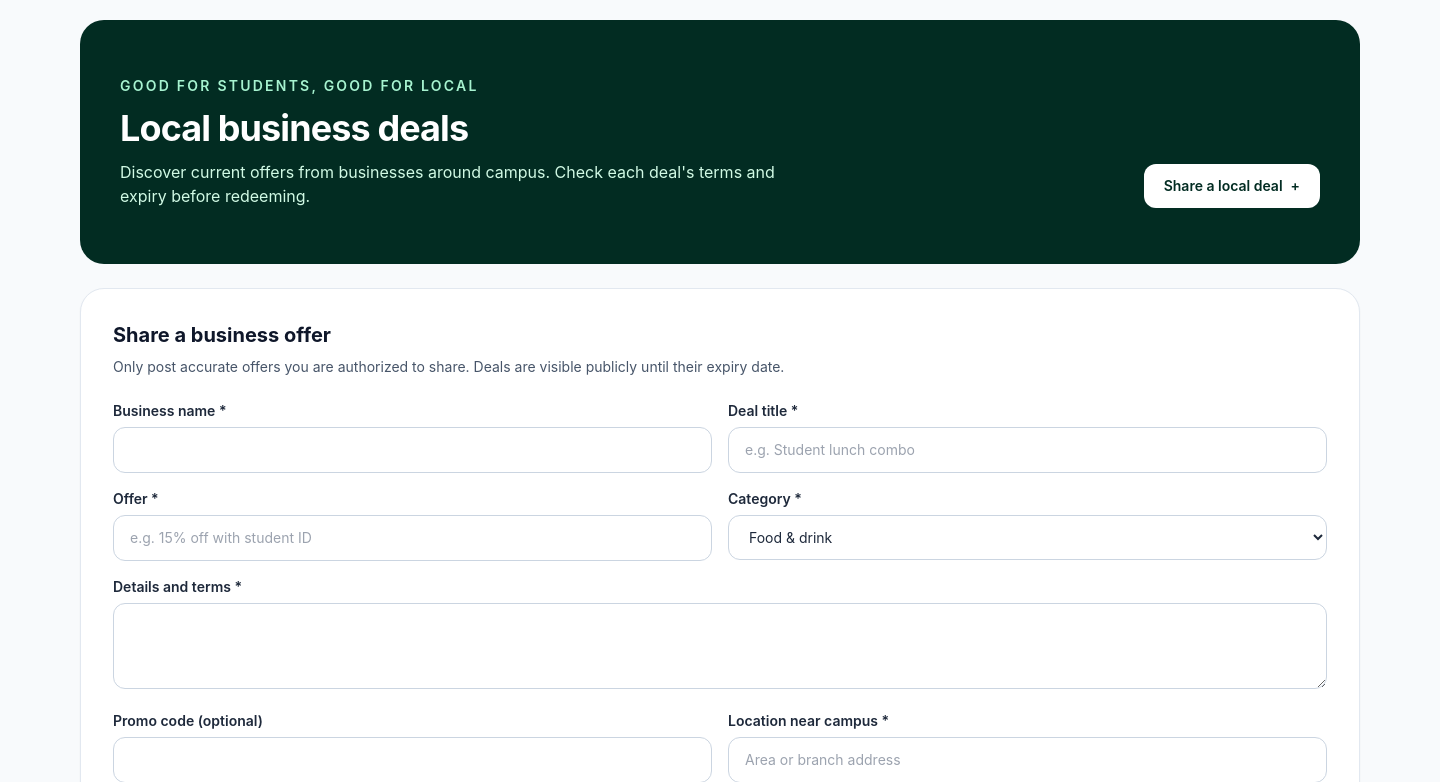
it: Local business deals › allows a signed-in student to publish a local business deal
Earlier steps of the test are not shown.
Type "Campus Corner Cafe" into the field labelled "Business name *" at [412, 450], box x1=113 y1=427 x2=712 y2=473
Type "Student lunch combo" into the field labelled "Deal title *" at [1028, 450], box x1=728 y1=427 x2=1327 y2=473
Type "15% off with student ID" into the field labelled "Offer *" at [412, 538], box x1=113 y1=515 x2=712 y2=561
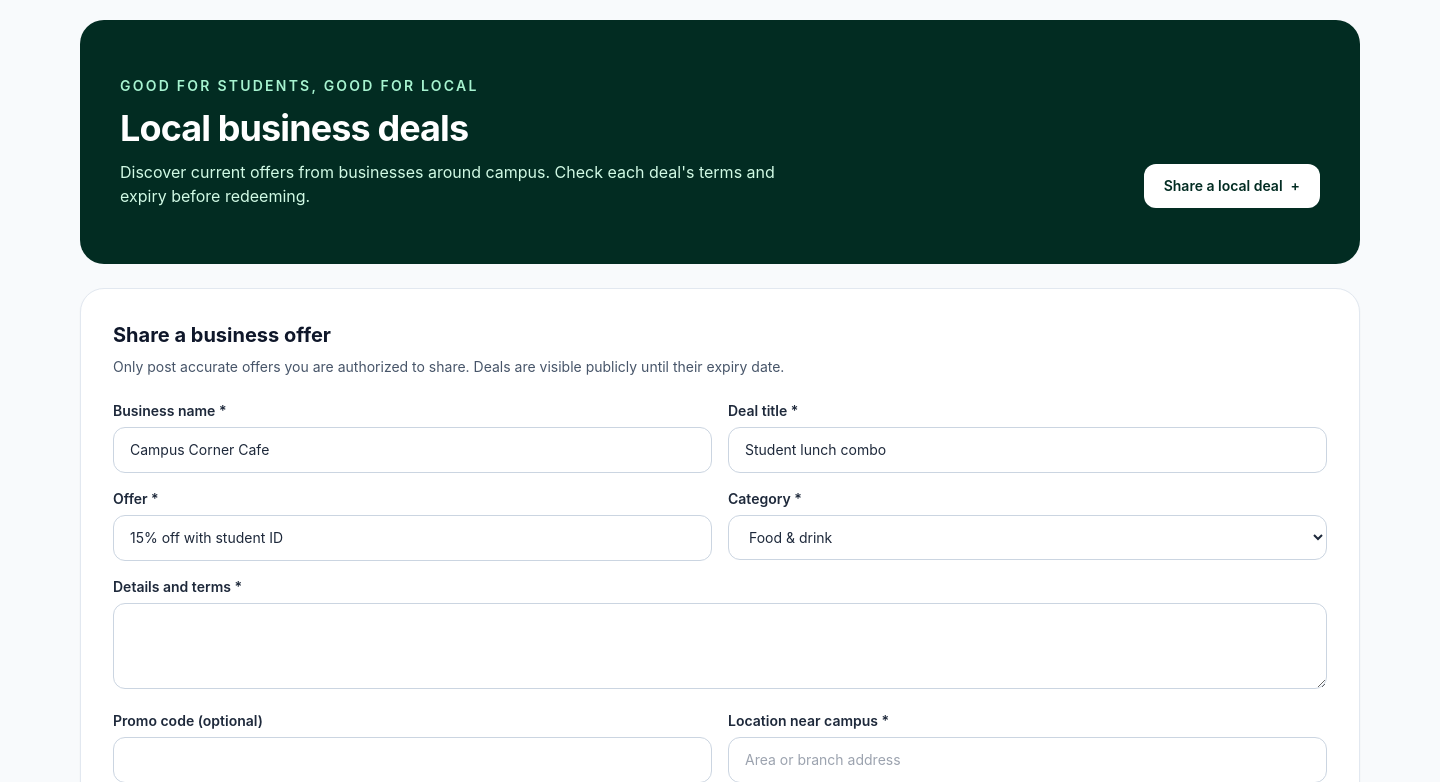
Type "Valid on weekdays." into the text box labelled "Details and terms *" at [720, 646], box x1=113 y1=603 x2=1327 y2=689
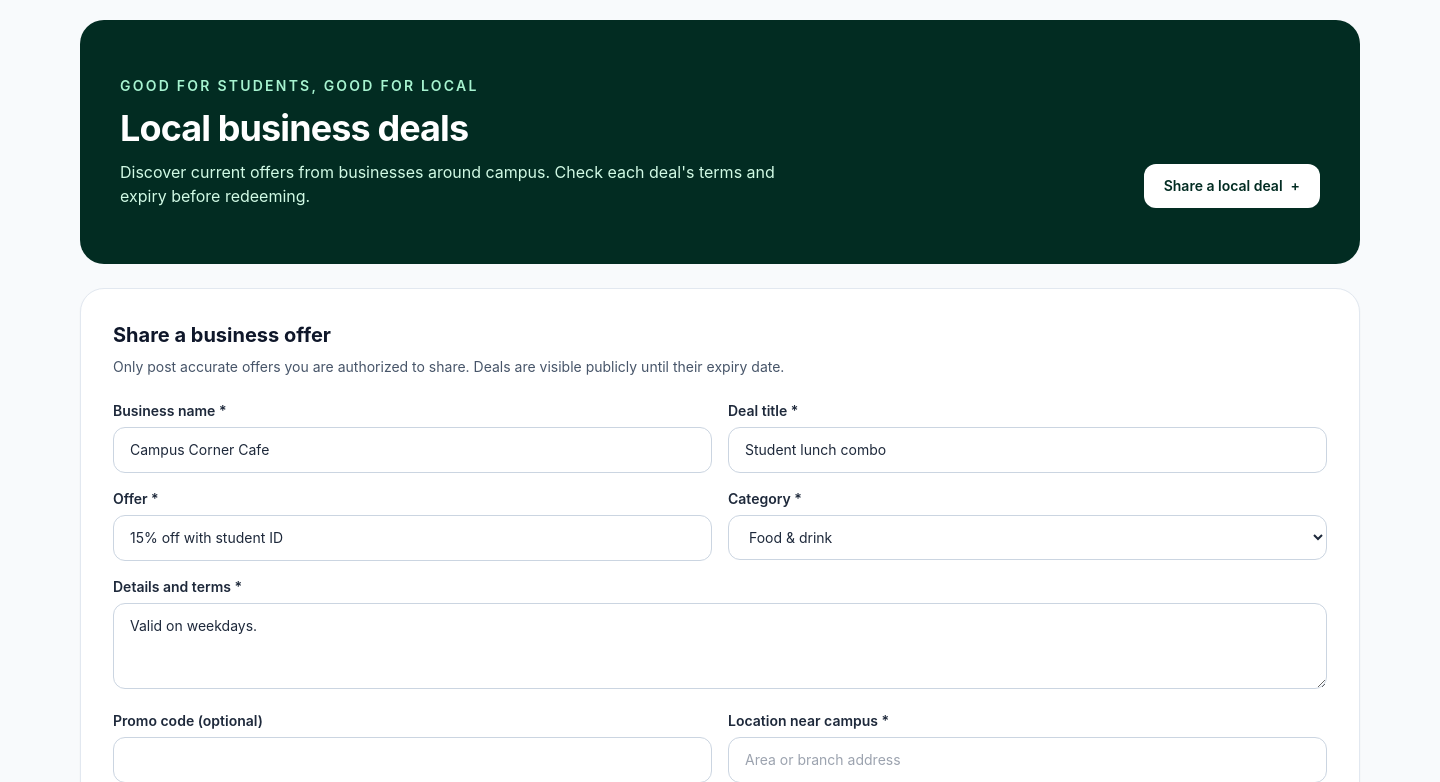
Type "CAMPUS15" into the field labelled "Promo code (optional)" at [412, 760], box x1=113 y1=737 x2=712 y2=781
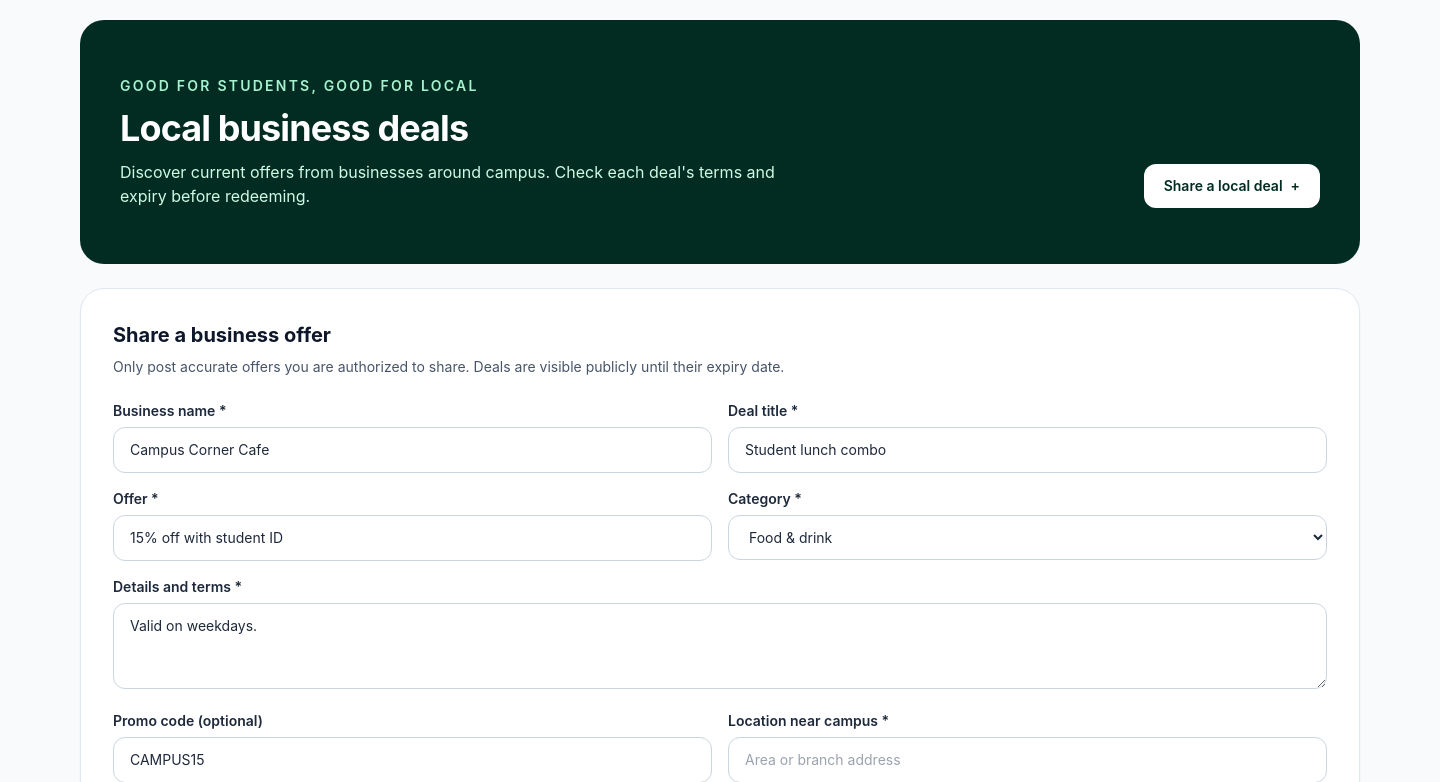
Type "North Gate" into the field labelled "Location near campus *" at [1028, 760], box x1=728 y1=737 x2=1327 y2=781
(page scrolled)
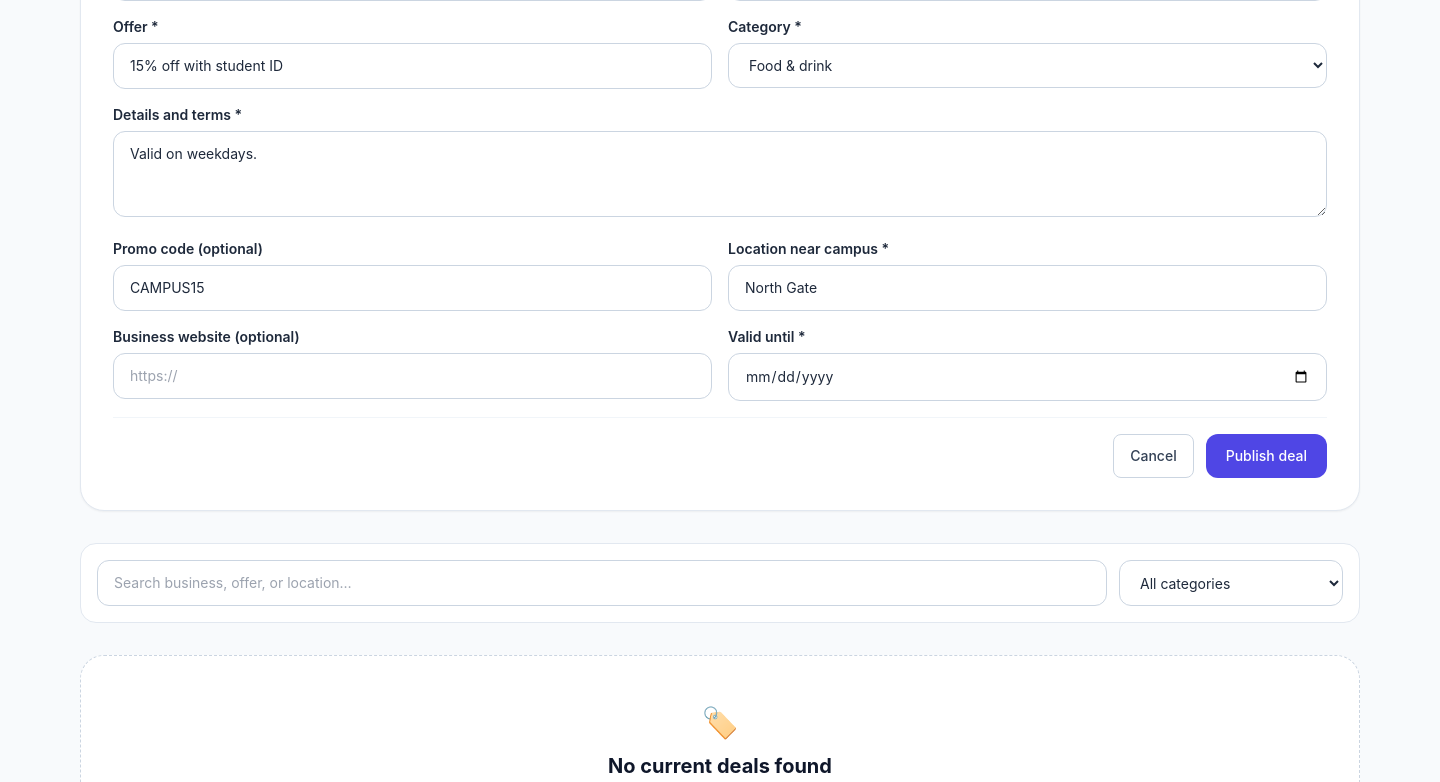
Type "2099-12-31" into the date field labelled "Valid until *" at [1028, 377], box x1=728 y1=353 x2=1327 y2=401
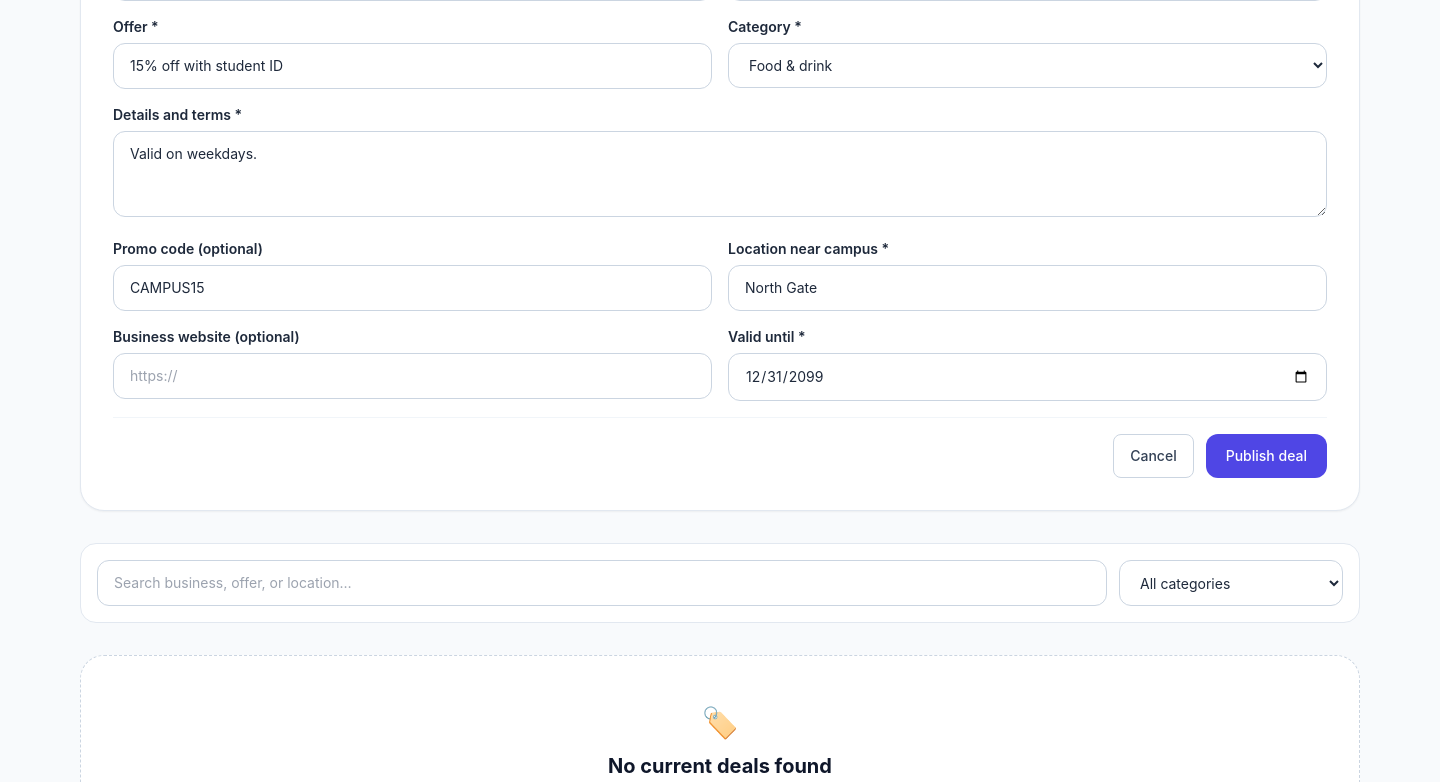
Click the button "Publish deal" at [1266, 456], box x1=1206 y1=434 x2=1327 y2=478
(page scrolled)
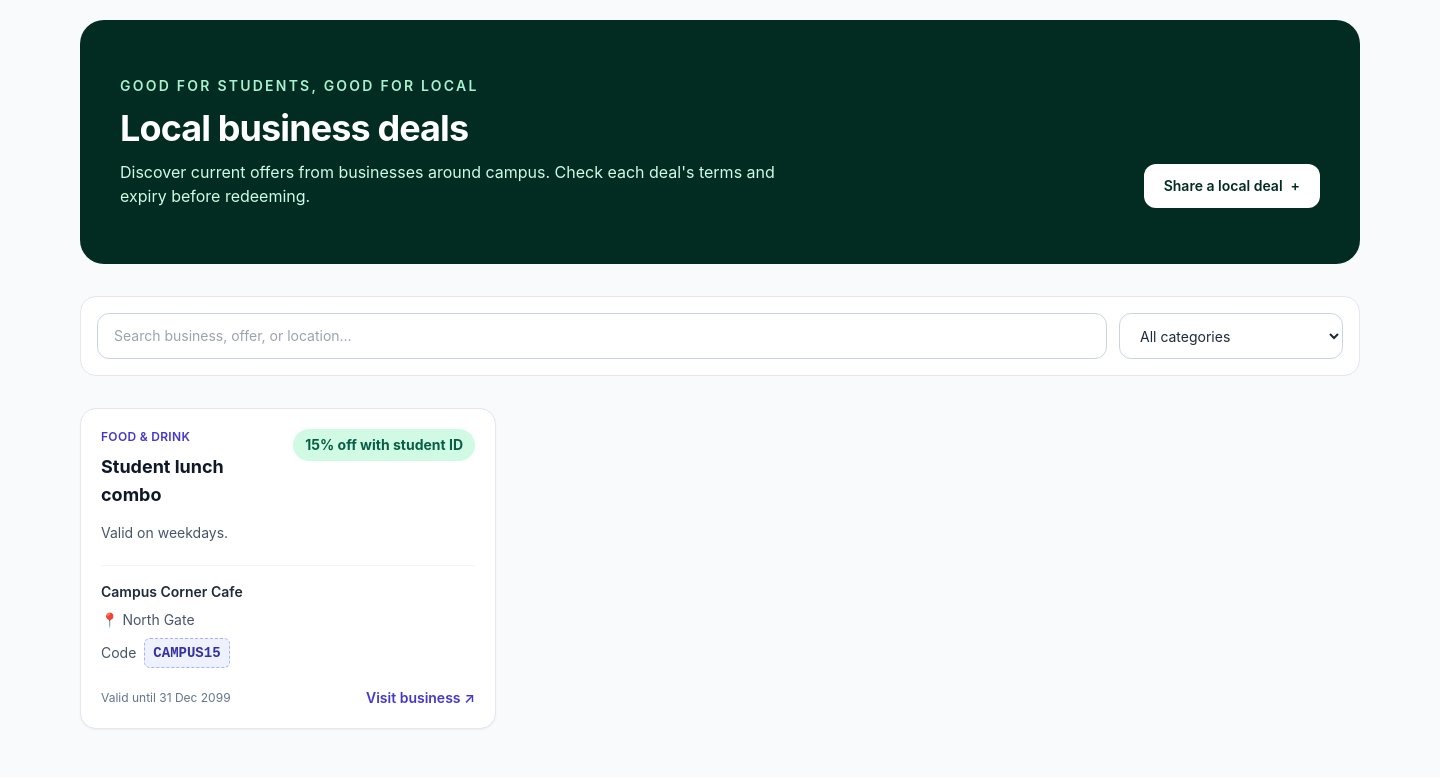
Now the heading "Student lunch combo" is shown, box x1=101 y1=456 x2=224 y2=505
